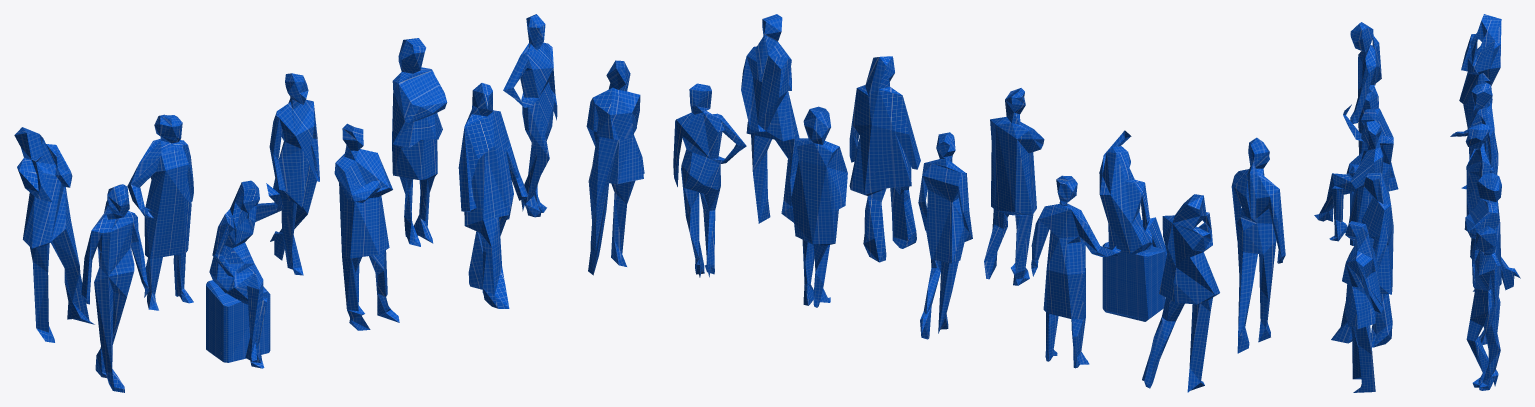
Rendered from audience.glb.
3 views of the same model, side by side, from view 1: azimuth 30°, elevation 25°; view 2: azimuth 150°, elevation 25°; view 3: azimuth 270°, elevation 25° (orthographic). The views are drawn at different scales.
Visible parts, largest first — view 1: Woman04, Woman06, Woman07, Woman05, Woman03, Woman09, Woman01, Woman08, Woman02, Woman10, Box1; view 2: Woman04, Woman06, Woman05, Woman09, Woman07, Woman01, Woman03, Woman08, Woman10, Woman02, Box1; view 3: Woman05, Woman10, Woman04, Woman06, Woman02, Woman01, Woman03, Woman09, Woman08, Woman07.
Part boxes in pixels (x1,y1,x2,y2): Woman04: (458, 83, 528, 308); Woman06: (14, 127, 94, 342); Woman07: (127, 114, 193, 310); Woman05: (586, 60, 644, 275); Woman03: (334, 123, 399, 330); Woman09: (392, 38, 447, 246); Woman01: (81, 184, 149, 392); Woman08: (269, 73, 319, 275); Woman02: (209, 180, 283, 368); Woman10: (503, 14, 557, 217); Box1: (206, 280, 270, 362); Woman04: (849, 56, 920, 262); Woman06: (1142, 194, 1219, 392); Woman05: (741, 14, 799, 223); Woman09: (791, 106, 847, 307); Woman07: (1031, 175, 1120, 368); Woman01: (1231, 137, 1285, 353); Woman03: (984, 88, 1044, 285); Woman08: (918, 132, 972, 339); Woman10: (673, 83, 746, 277); Woman02: (1099, 130, 1167, 260); Box1: (1102, 242, 1165, 321); Woman05: (1342, 221, 1383, 392); Woman10: (1466, 226, 1501, 390); Woman04: (1331, 172, 1393, 347); Woman06: (1459, 14, 1501, 189); Woman02: (1314, 104, 1393, 241); Woman01: (1350, 22, 1398, 191); Woman03: (1346, 121, 1383, 245); Woman09: (1464, 173, 1501, 345); Woman08: (1465, 123, 1520, 291); Woman07: (1450, 83, 1498, 174).
Size of the model in its own units: 19.93 by 6.99 by 7.79.
Materials: 1 (1 with a texture image).
